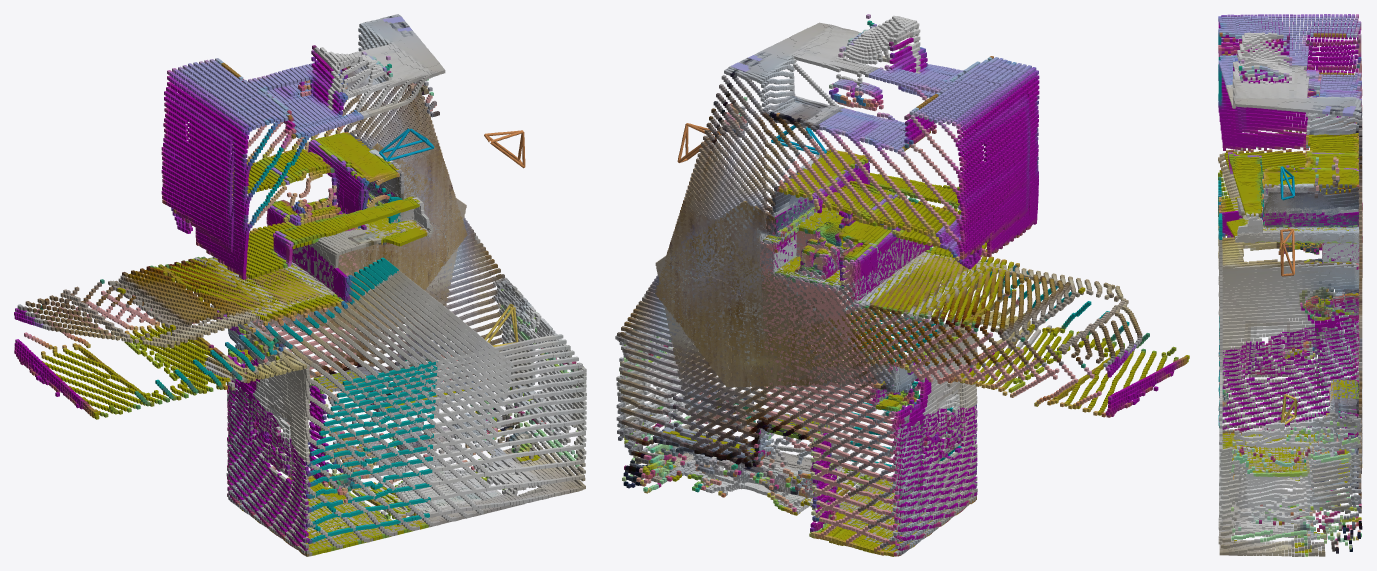
The picture shows the model from 3 angles, left to right: view 1: azimuth 30°, elevation 25°; view 2: azimuth 150°, elevation 25°; view 3: azimuth 270°, elevation 25°; orthographic projection. The views are drawn at different scales.
Bounding box in the file's own units: 8.61 × 7.91 × 2.42.
